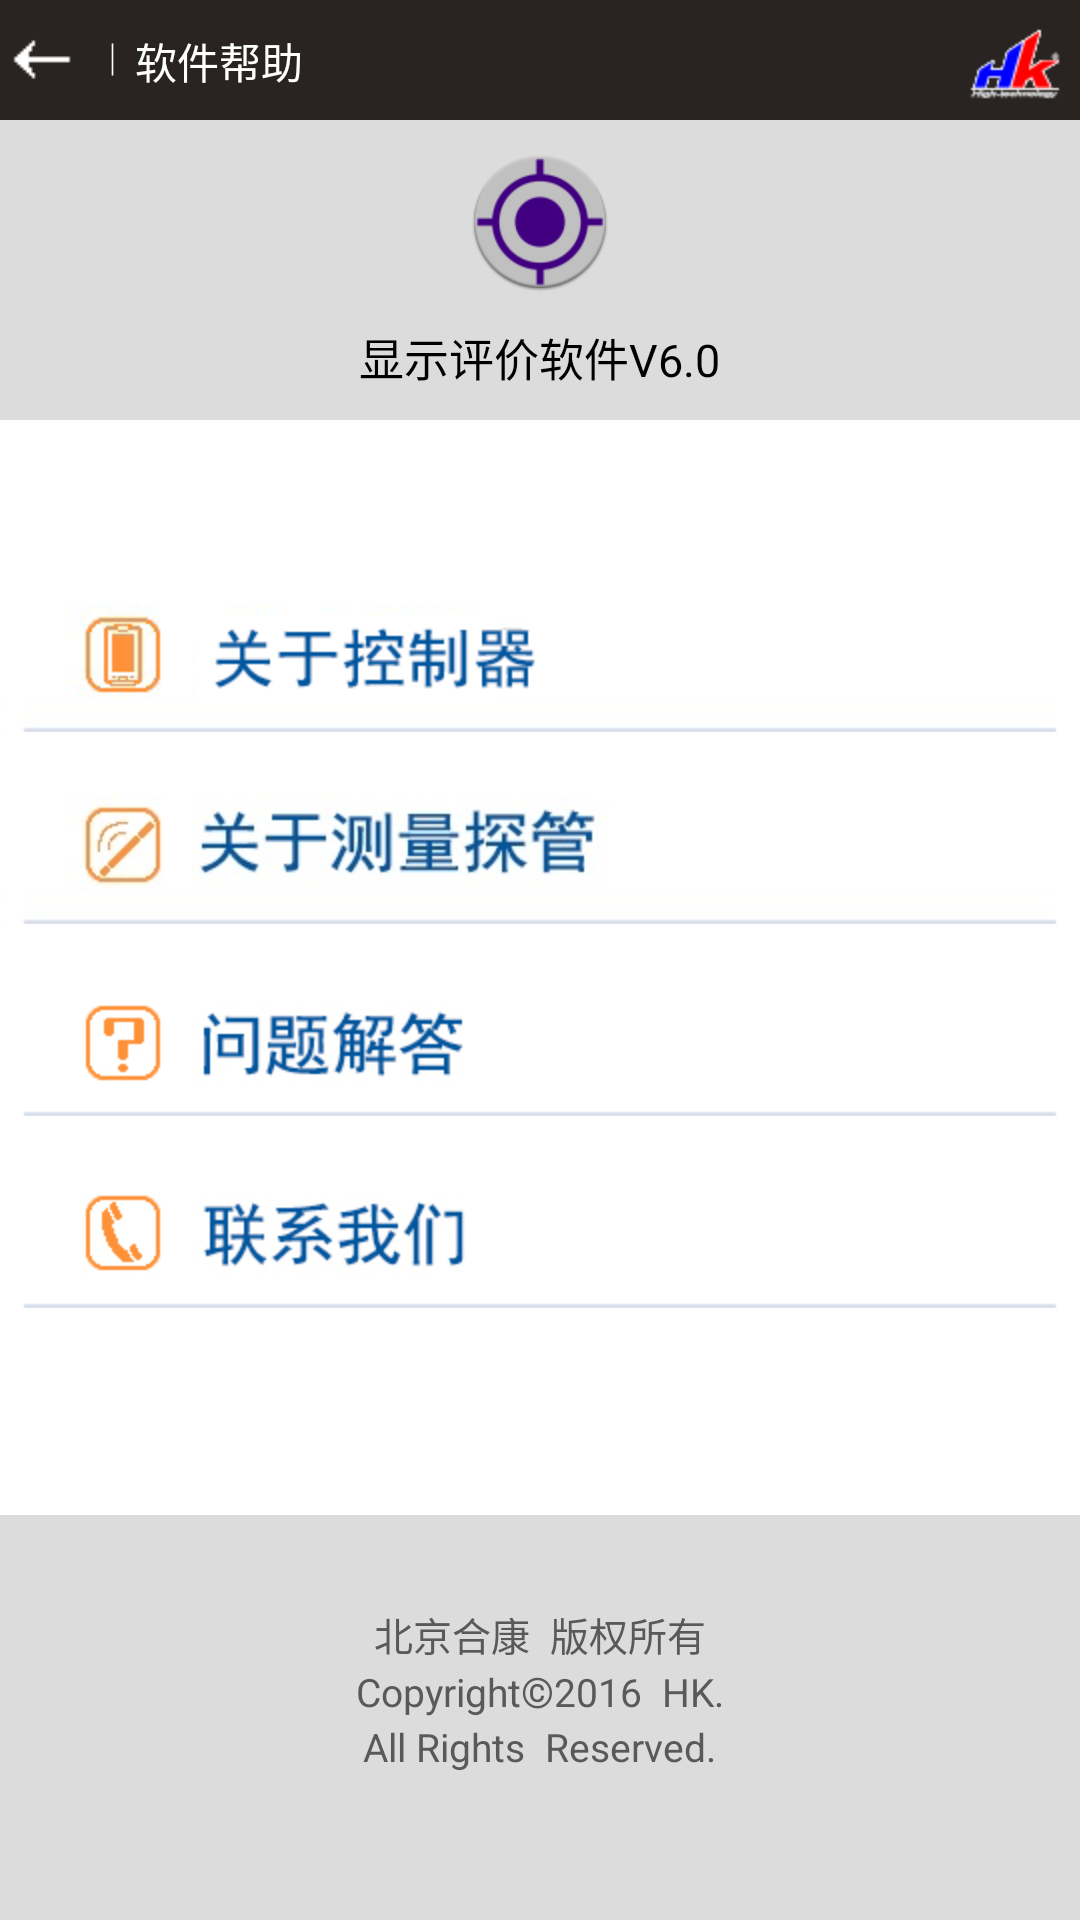

Where icons sit on this 1080x1920 app screen, as Rect(x1, y1, x2, y2):
houtui: Rect(13, 40, 71, 79)
